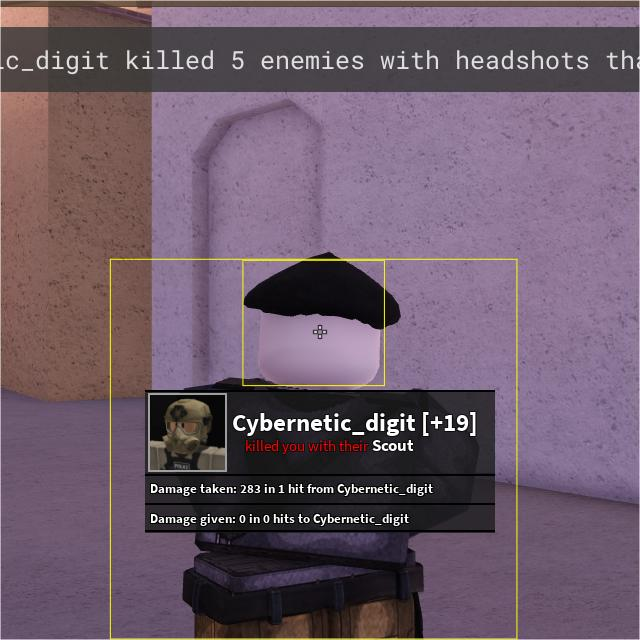Head: (244, 263, 383, 389)
Player: (112, 261, 491, 638)
